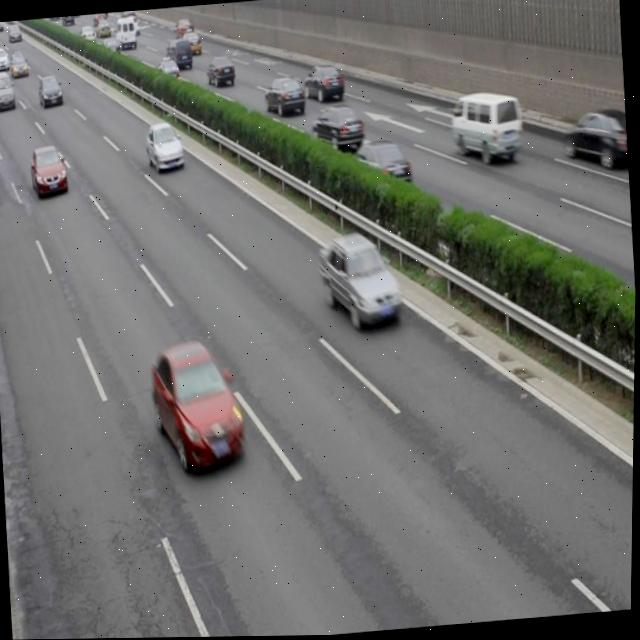car: (149, 340, 248, 476), (317, 228, 404, 331), (559, 106, 629, 177), (348, 140, 410, 190), (311, 108, 364, 154), (28, 145, 71, 199), (144, 120, 184, 174), (302, 64, 346, 104), (262, 76, 305, 116), (204, 52, 235, 91), (36, 73, 64, 109), (156, 55, 181, 86), (180, 27, 202, 55), (99, 35, 122, 58), (173, 17, 195, 41), (10, 52, 28, 78)
truck: (448, 88, 524, 169), (165, 35, 192, 73), (114, 15, 138, 51), (0, 71, 15, 111)
